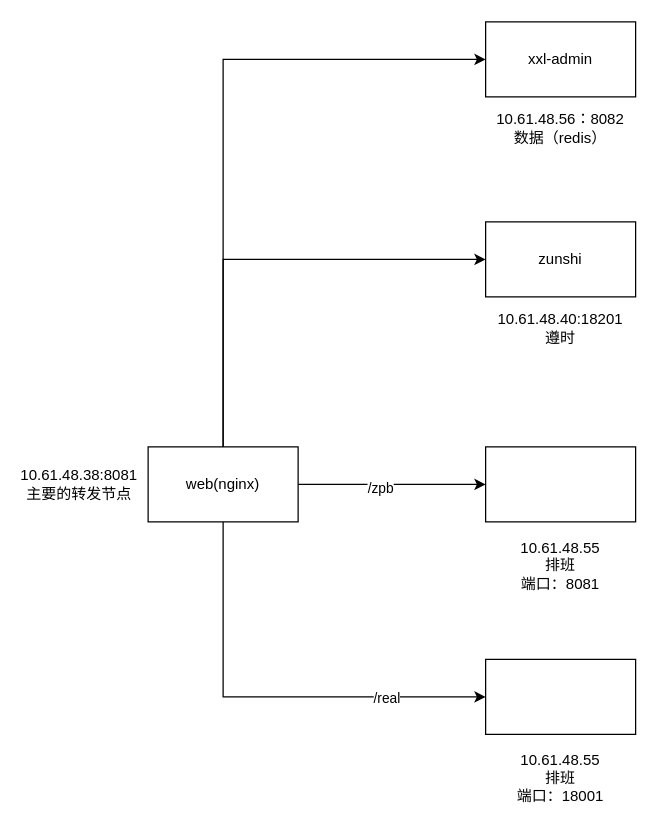
Image size: 658x826. Some labels were removed from this diagram. The shapes that lost their labels are listed below. From the top down, each one's centre as x and y in pixels, then its label:
[560,484]: zpb
[560,696]: real
